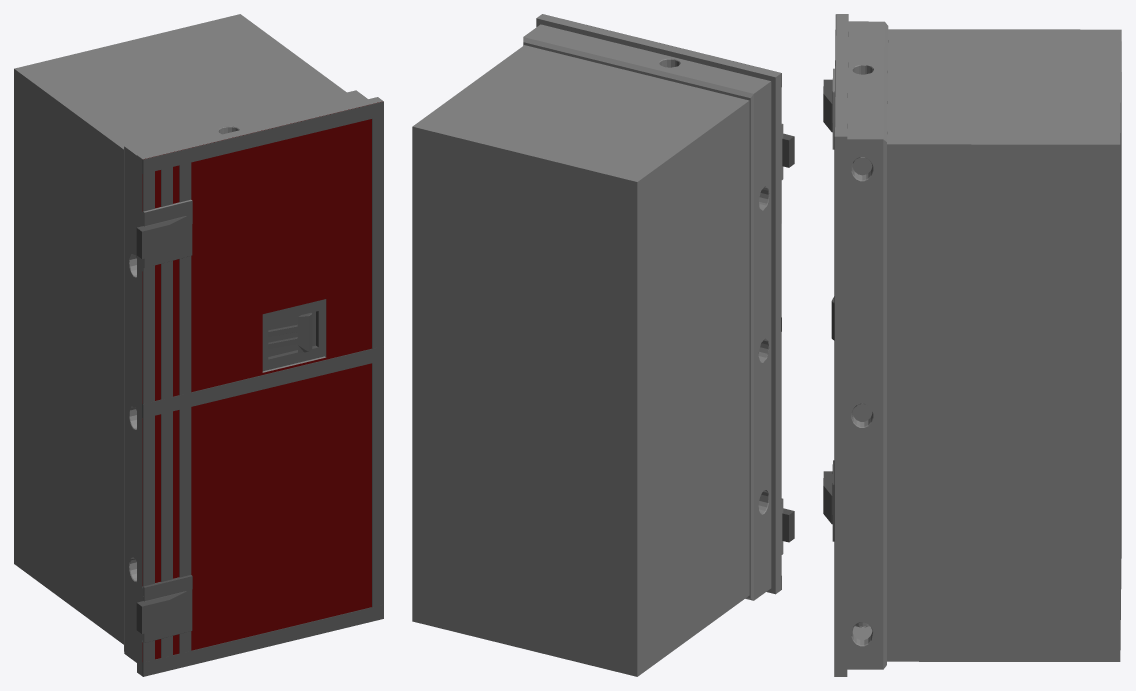
Rendered from Door_1x2_Rouge.fbx.
The picture shows the model from 3 angles, left to right: view 1: azimuth 30°, elevation 25°; view 2: azimuth 150°, elevation 25°; view 3: azimuth 270°, elevation 25°; orthographic projection. The views are drawn at different scales.
Parts seen in each view (by area): view 1: Door 1x2 Rouge; view 2: Door 1x2 Rouge; view 3: Door 1x2 Rouge.
Part boxes in pixels (x1,y1,x2,y2): Door 1x2 Rouge: (14,14,383,676); Door 1x2 Rouge: (412,14,794,676); Door 1x2 Rouge: (823,14,1121,676).
Bounding box in the file's own units: 100 × 200 × 100.
